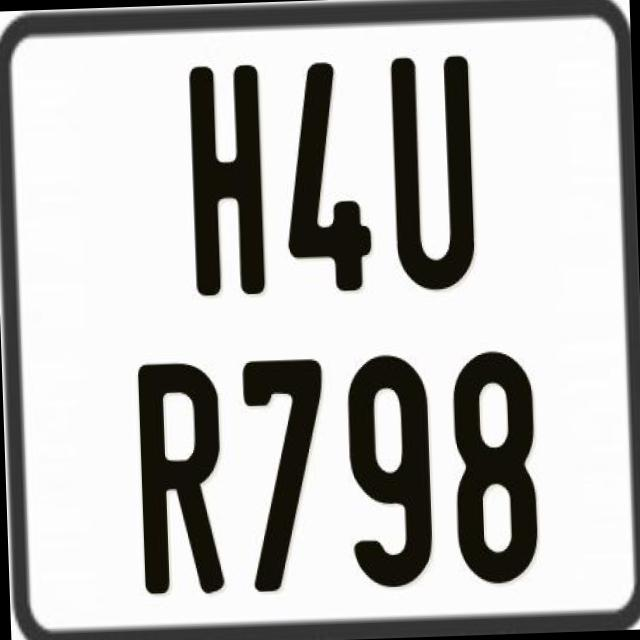4: (280, 59, 372, 292)
7: (237, 355, 327, 598)
8: (448, 348, 540, 584)
9: (345, 348, 441, 586)
H: (186, 60, 264, 296)
R: (134, 358, 226, 598)
U: (386, 56, 472, 296)
